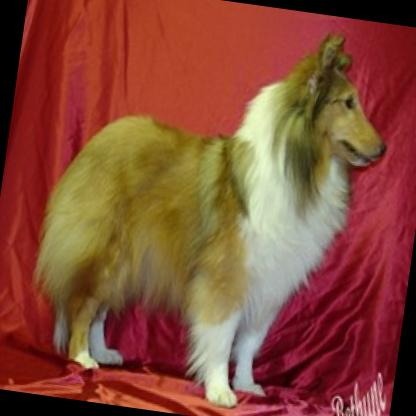Shetland_sheepdog: (19, 0, 401, 416)
